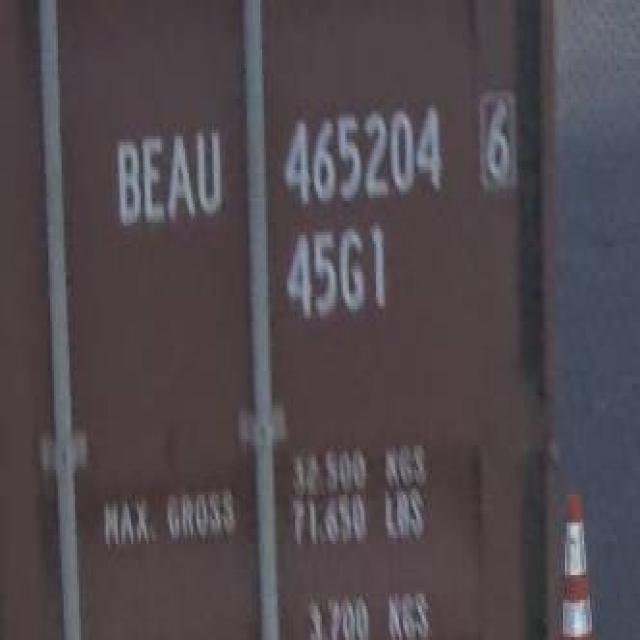dv: (474, 76, 522, 202)
owner: (108, 117, 228, 235)
serial: (282, 93, 450, 211)
size: (277, 220, 405, 324)
